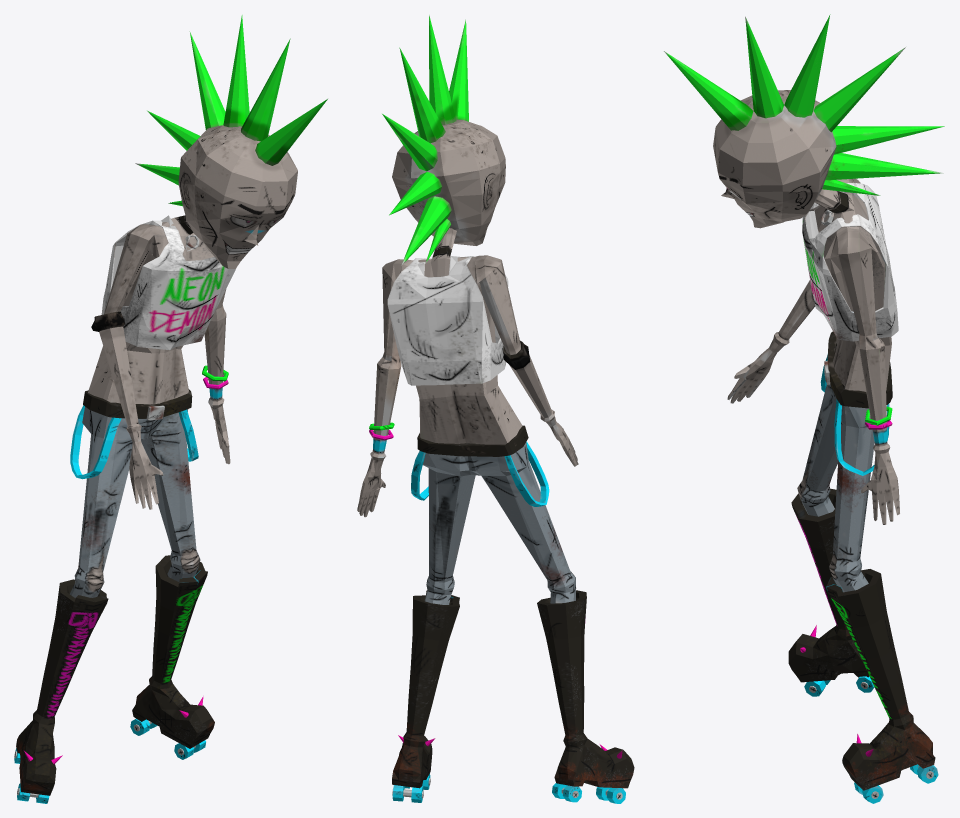
The model's file is punkAnimation_000147.obj.
3 views of the same model, side by side, from view 1: azimuth 30°, elevation 25°; view 2: azimuth 150°, elevation 25°; view 3: azimuth 270°, elevation 25° (orthographic). The views are drawn at different scales.
Parts seen in each view (by area): view 1: Cube.004_Cube.003; view 2: Cube.004_Cube.003; view 3: Cube.004_Cube.003.
Part boxes in pixels (box(x1,y1,x2,y2)): Cube.004_Cube.003: box(14, 15, 327, 803); Cube.004_Cube.003: box(357, 15, 634, 803); Cube.004_Cube.003: box(664, 14, 944, 803).
Size of the model in its own units: 2.6 by 7.37 by 2.34.
